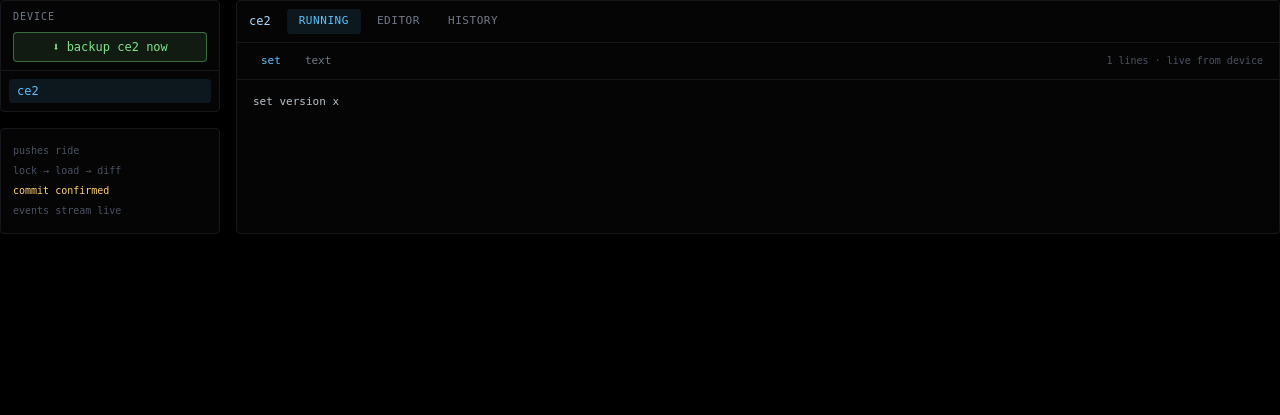
Test: Configurations editor (runtime smoke) › editor tab: dropdown + dynamic fields render
Click the button "editor" at (398, 21), box x1=365 y1=9 x2=432 y2=34
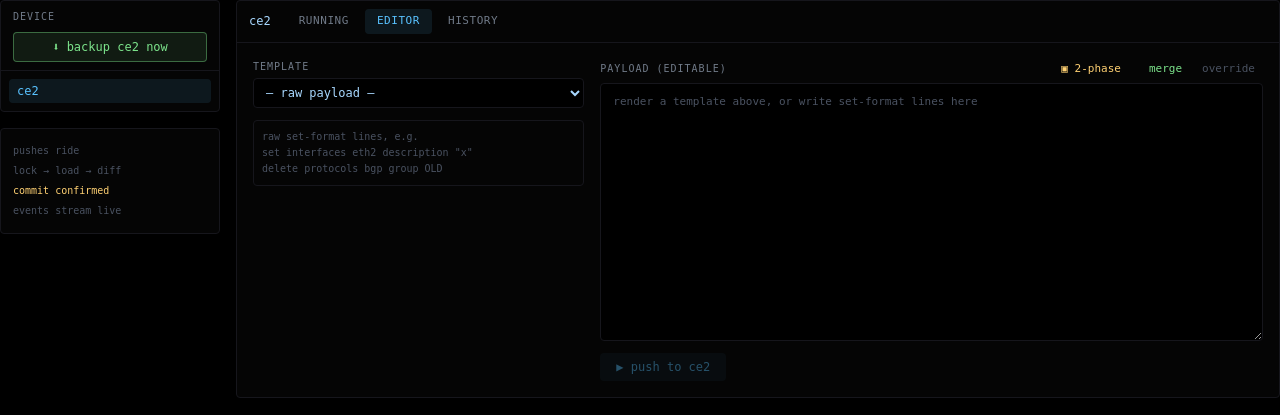
Result: the dropdown is shown
Select "static-route — d" in the dropdown at (419, 92), box x1=253 y1=78 x2=584 y2=108
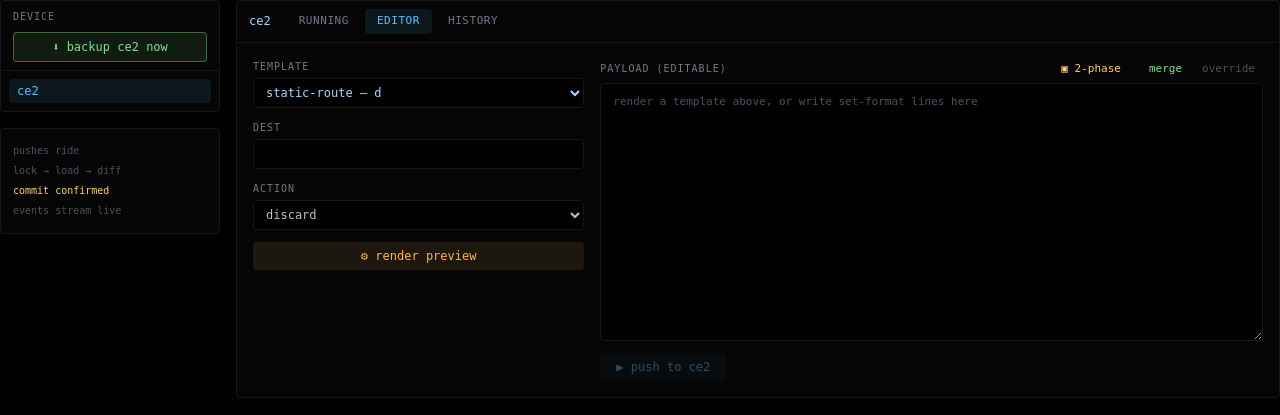
Result: the text "Dest" is shown at x1=253 y1=122 x2=281 y2=132
Result: the text "Action" is shown at x1=253 y1=182 x2=295 y2=194
